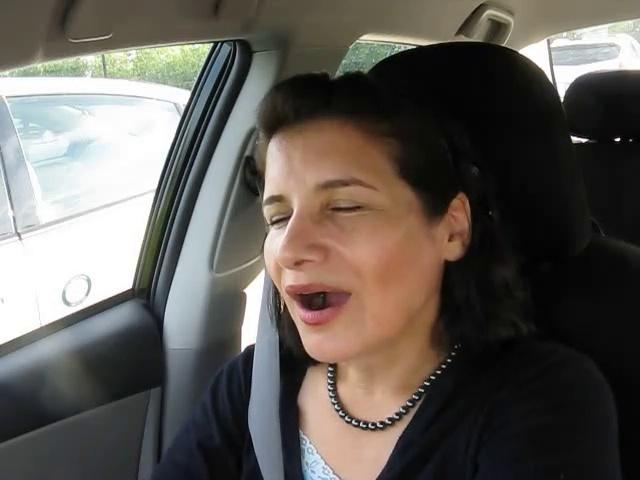close_eyeL: (247, 201, 302, 239)
close_eyeR: (306, 187, 384, 230)
yawn: (275, 268, 365, 330)
